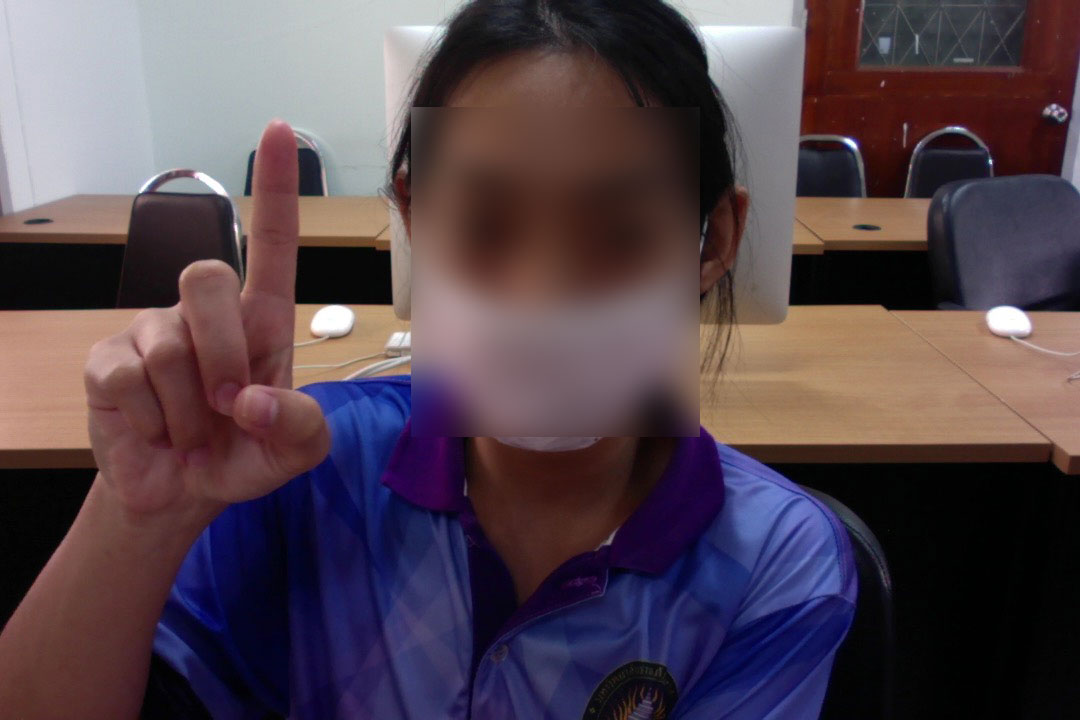dor: (63, 111, 342, 518)
